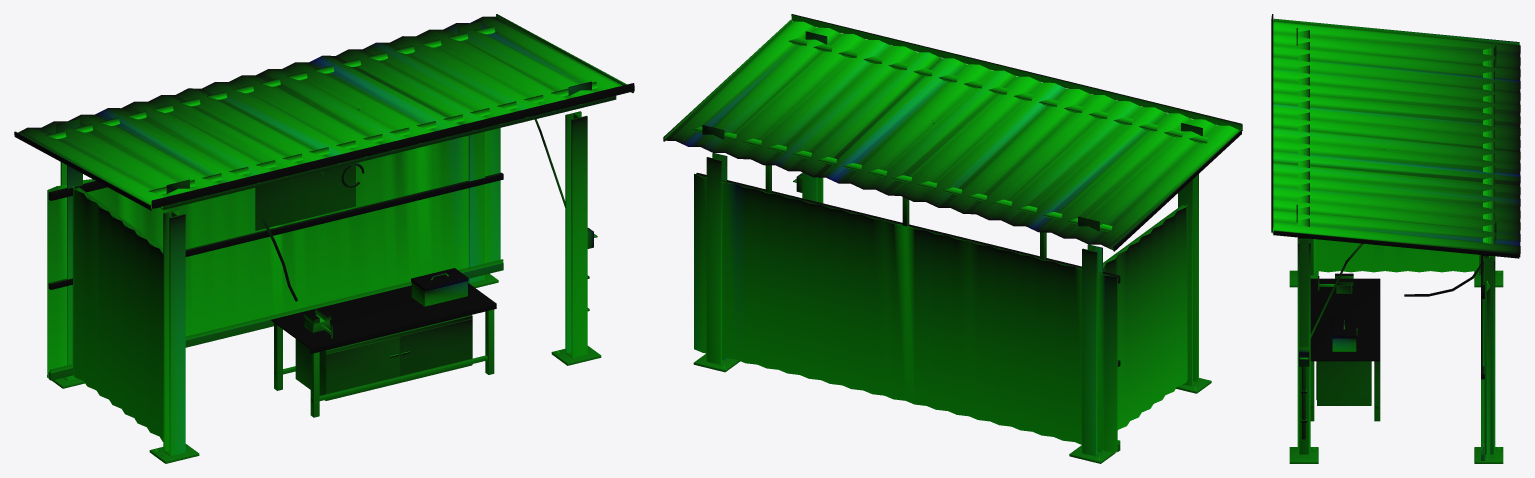
File: service_shed.glb
The picture shows the model from 3 angles, left to right: view 1: azimuth 30°, elevation 25°; view 2: azimuth 150°, elevation 25°; view 3: azimuth 270°, elevation 25°; orthographic projection. The views are drawn at different scales.
Visible parts, largest first — view 1: ServiceShed; view 2: ServiceShed; view 3: ServiceShed.
Boxes of the visible parts, x1,y1,x2,y2 form: ServiceShed: (14, 14, 634, 463); ServiceShed: (663, 14, 1242, 463); ServiceShed: (1271, 14, 1520, 463).
Bounding box in the file's own units: 6.25 × 3.41 × 3.1.
